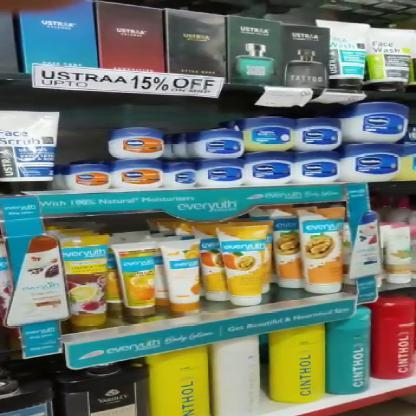EY ADVANCED GOLDEN GLOW PEEL OFF M- 90G: (118, 246, 156, 316)
EY EXF WALNUT SCRUB AYR 200G: (307, 209, 342, 294), (278, 214, 301, 288)
EY HYD-EXF WALNT APR SCRUB AYR100G: (224, 226, 268, 308), (204, 239, 226, 299)
EY NAT GLOW ORANGE PEEL OFF AY 90G: (161, 238, 207, 314)
